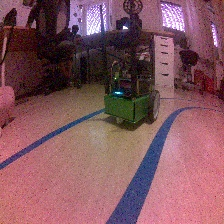rob: (103, 66, 161, 125)
